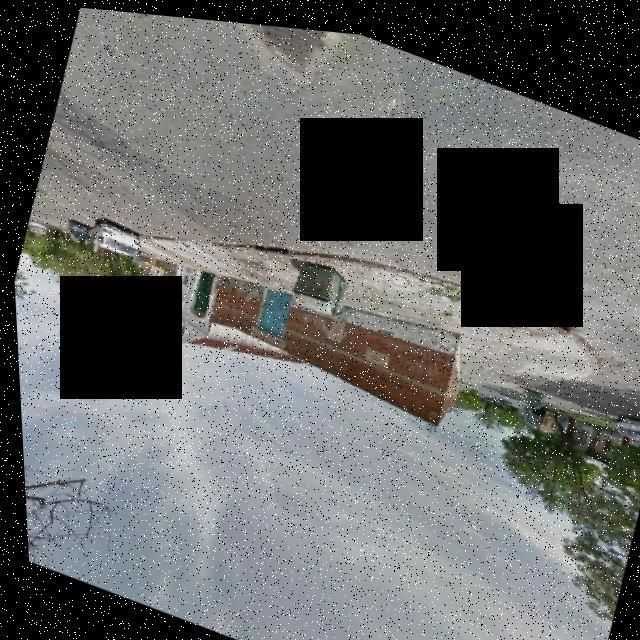bin: (269, 237, 358, 322)
